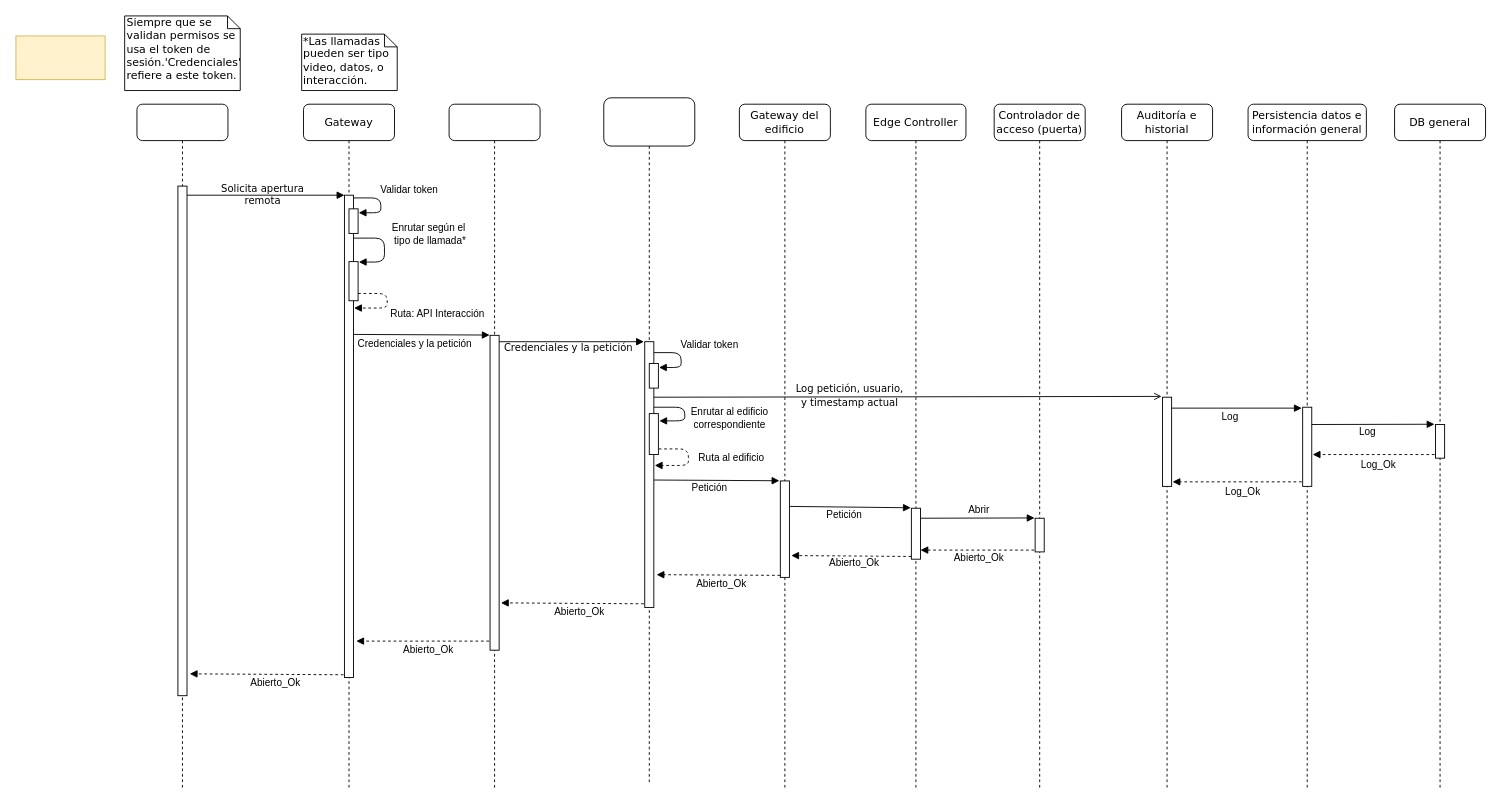
Some shapes in this 1502 by 805 pixel diagram are drawn without their labels. The box of each missing label's shape, as (x1, y1, x2, y2) in pixels:
API Interacciones: (448, 103, 540, 789)
App móvil: (136, 103, 228, 789)
Gestor de control de acceso: (603, 97, 695, 783)
Secuencia - apertura remota de puerta: (15, 35, 105, 80)
